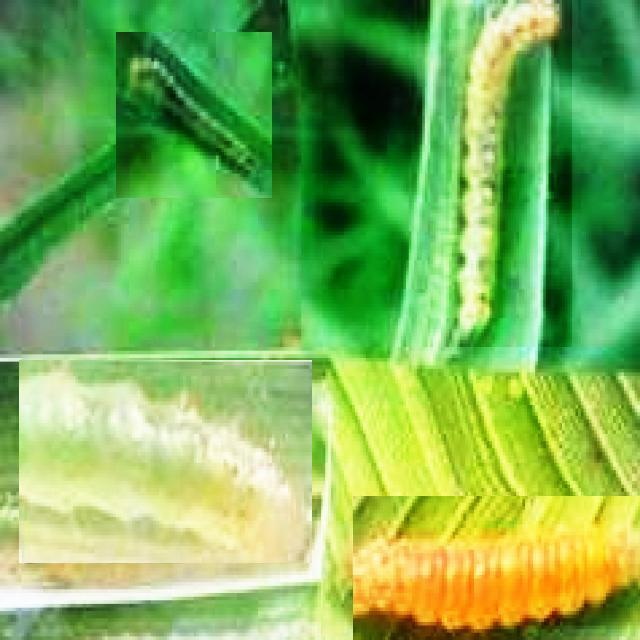leaf-folder: (19, 360, 312, 563), (447, 0, 573, 347), (353, 496, 640, 640), (116, 32, 272, 198)
